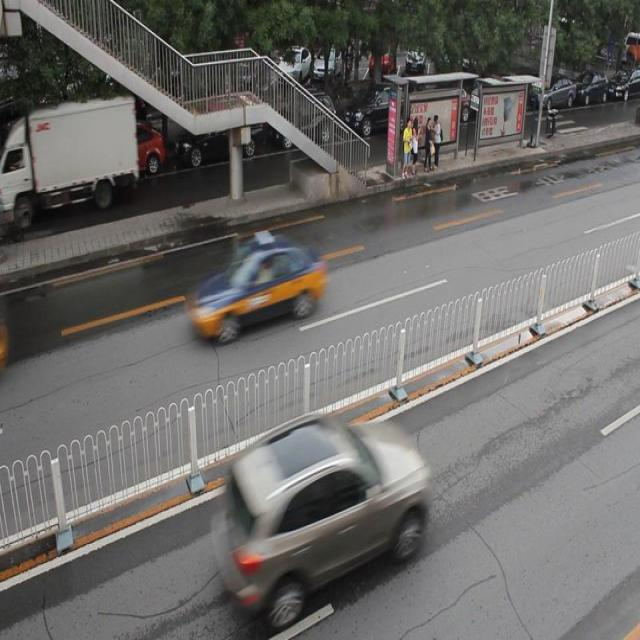bus: (1, 95, 142, 225)
car: (213, 416, 429, 623), (190, 234, 328, 342), (174, 106, 263, 167), (82, 122, 166, 186), (343, 79, 412, 139), (1, 137, 66, 197), (270, 92, 334, 150)
